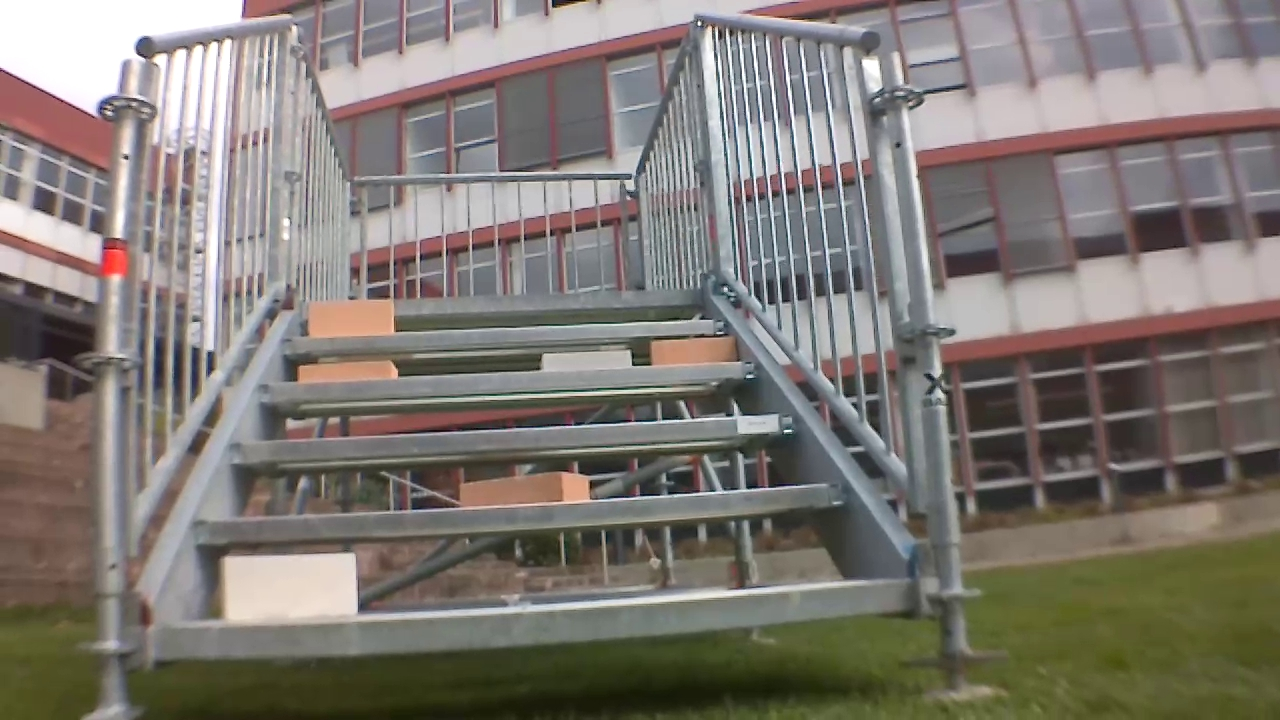brick: (220, 549, 364, 621), (456, 466, 593, 509), (303, 298, 396, 336), (298, 358, 396, 384), (538, 349, 631, 376), (650, 341, 736, 369)
edge: (153, 581, 915, 659), (194, 490, 849, 543), (230, 412, 795, 459), (252, 365, 756, 405), (278, 318, 731, 356), (303, 288, 705, 315)
stairs: (94, 13, 967, 681)
steps: (143, 288, 910, 666)
